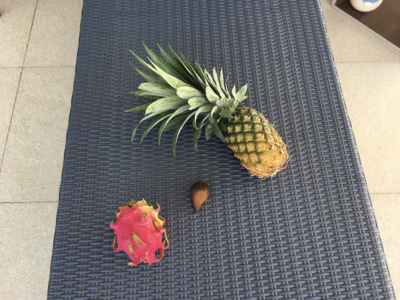dragon fruit: (110, 199, 169, 267)
pineapple: (125, 40, 289, 179)
snake fruit: (191, 182, 210, 214)
